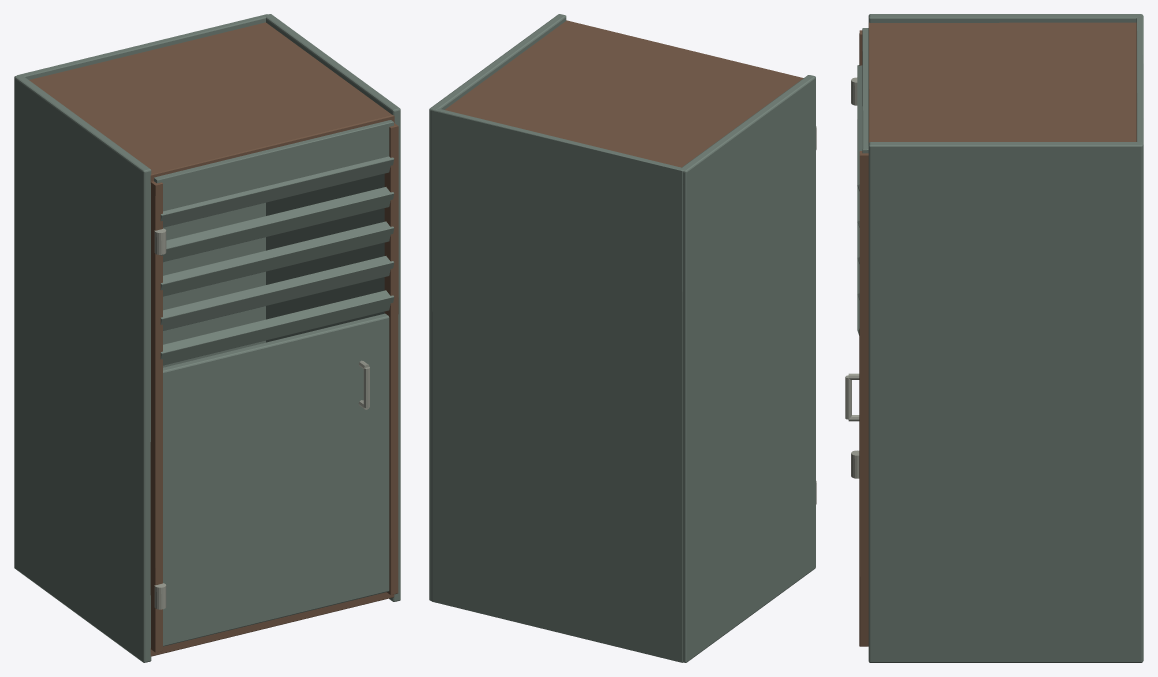
File: locker_low.glb
3 renders of one model, left to right at view 1: azimuth 30°, elevation 25°; view 2: azimuth 150°, elevation 25°; view 3: azimuth 270°, elevation 25°, orthographic. The views are drawn at different scales.
Parts seen in each view (by area): view 1: locker.001; view 2: locker.001; view 3: locker.001.
Part boxes in pixels (<box>): locker.001: <box>14,14,400,662</box>; locker.001: <box>429,14,816,662</box>; locker.001: <box>845,14,1143,662</box>.
Size of the model in its own units: 1.1 by 2 by 1.04.
